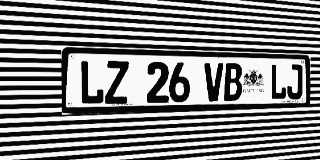2: (147, 62, 169, 103)
6: (169, 62, 190, 102)
B: (224, 63, 242, 101)
J: (287, 64, 303, 99)
L: (79, 60, 104, 105), (270, 64, 287, 100)
V: (204, 63, 223, 102)
Z: (105, 61, 129, 104)
